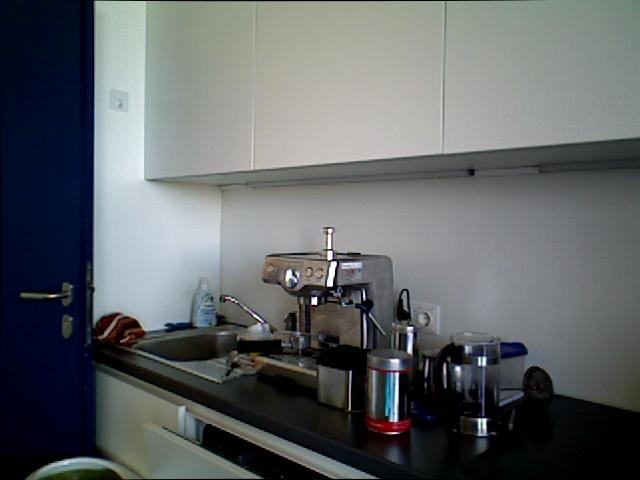bench: (190, 276, 216, 328)
couch: (131, 322, 272, 373)
handbag: (430, 326, 505, 440)
toilet: (218, 346, 241, 381)
